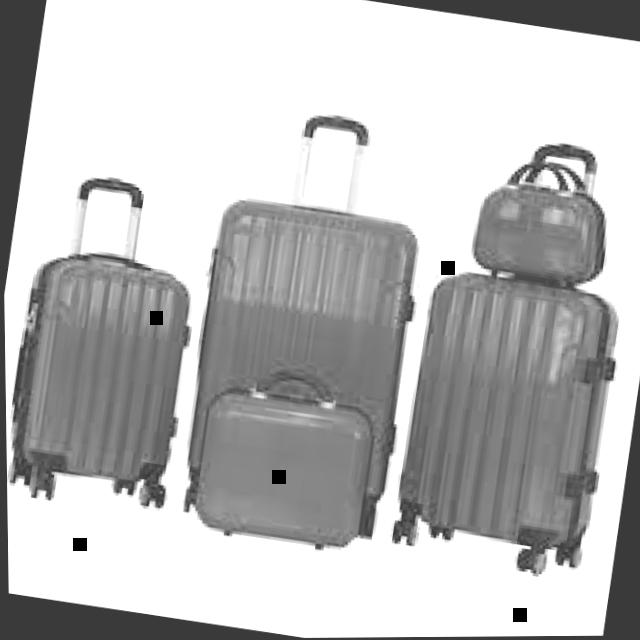luggage: (170, 187, 432, 524), (389, 261, 634, 564), (3, 238, 206, 498), (184, 352, 390, 554), (464, 169, 618, 298)
